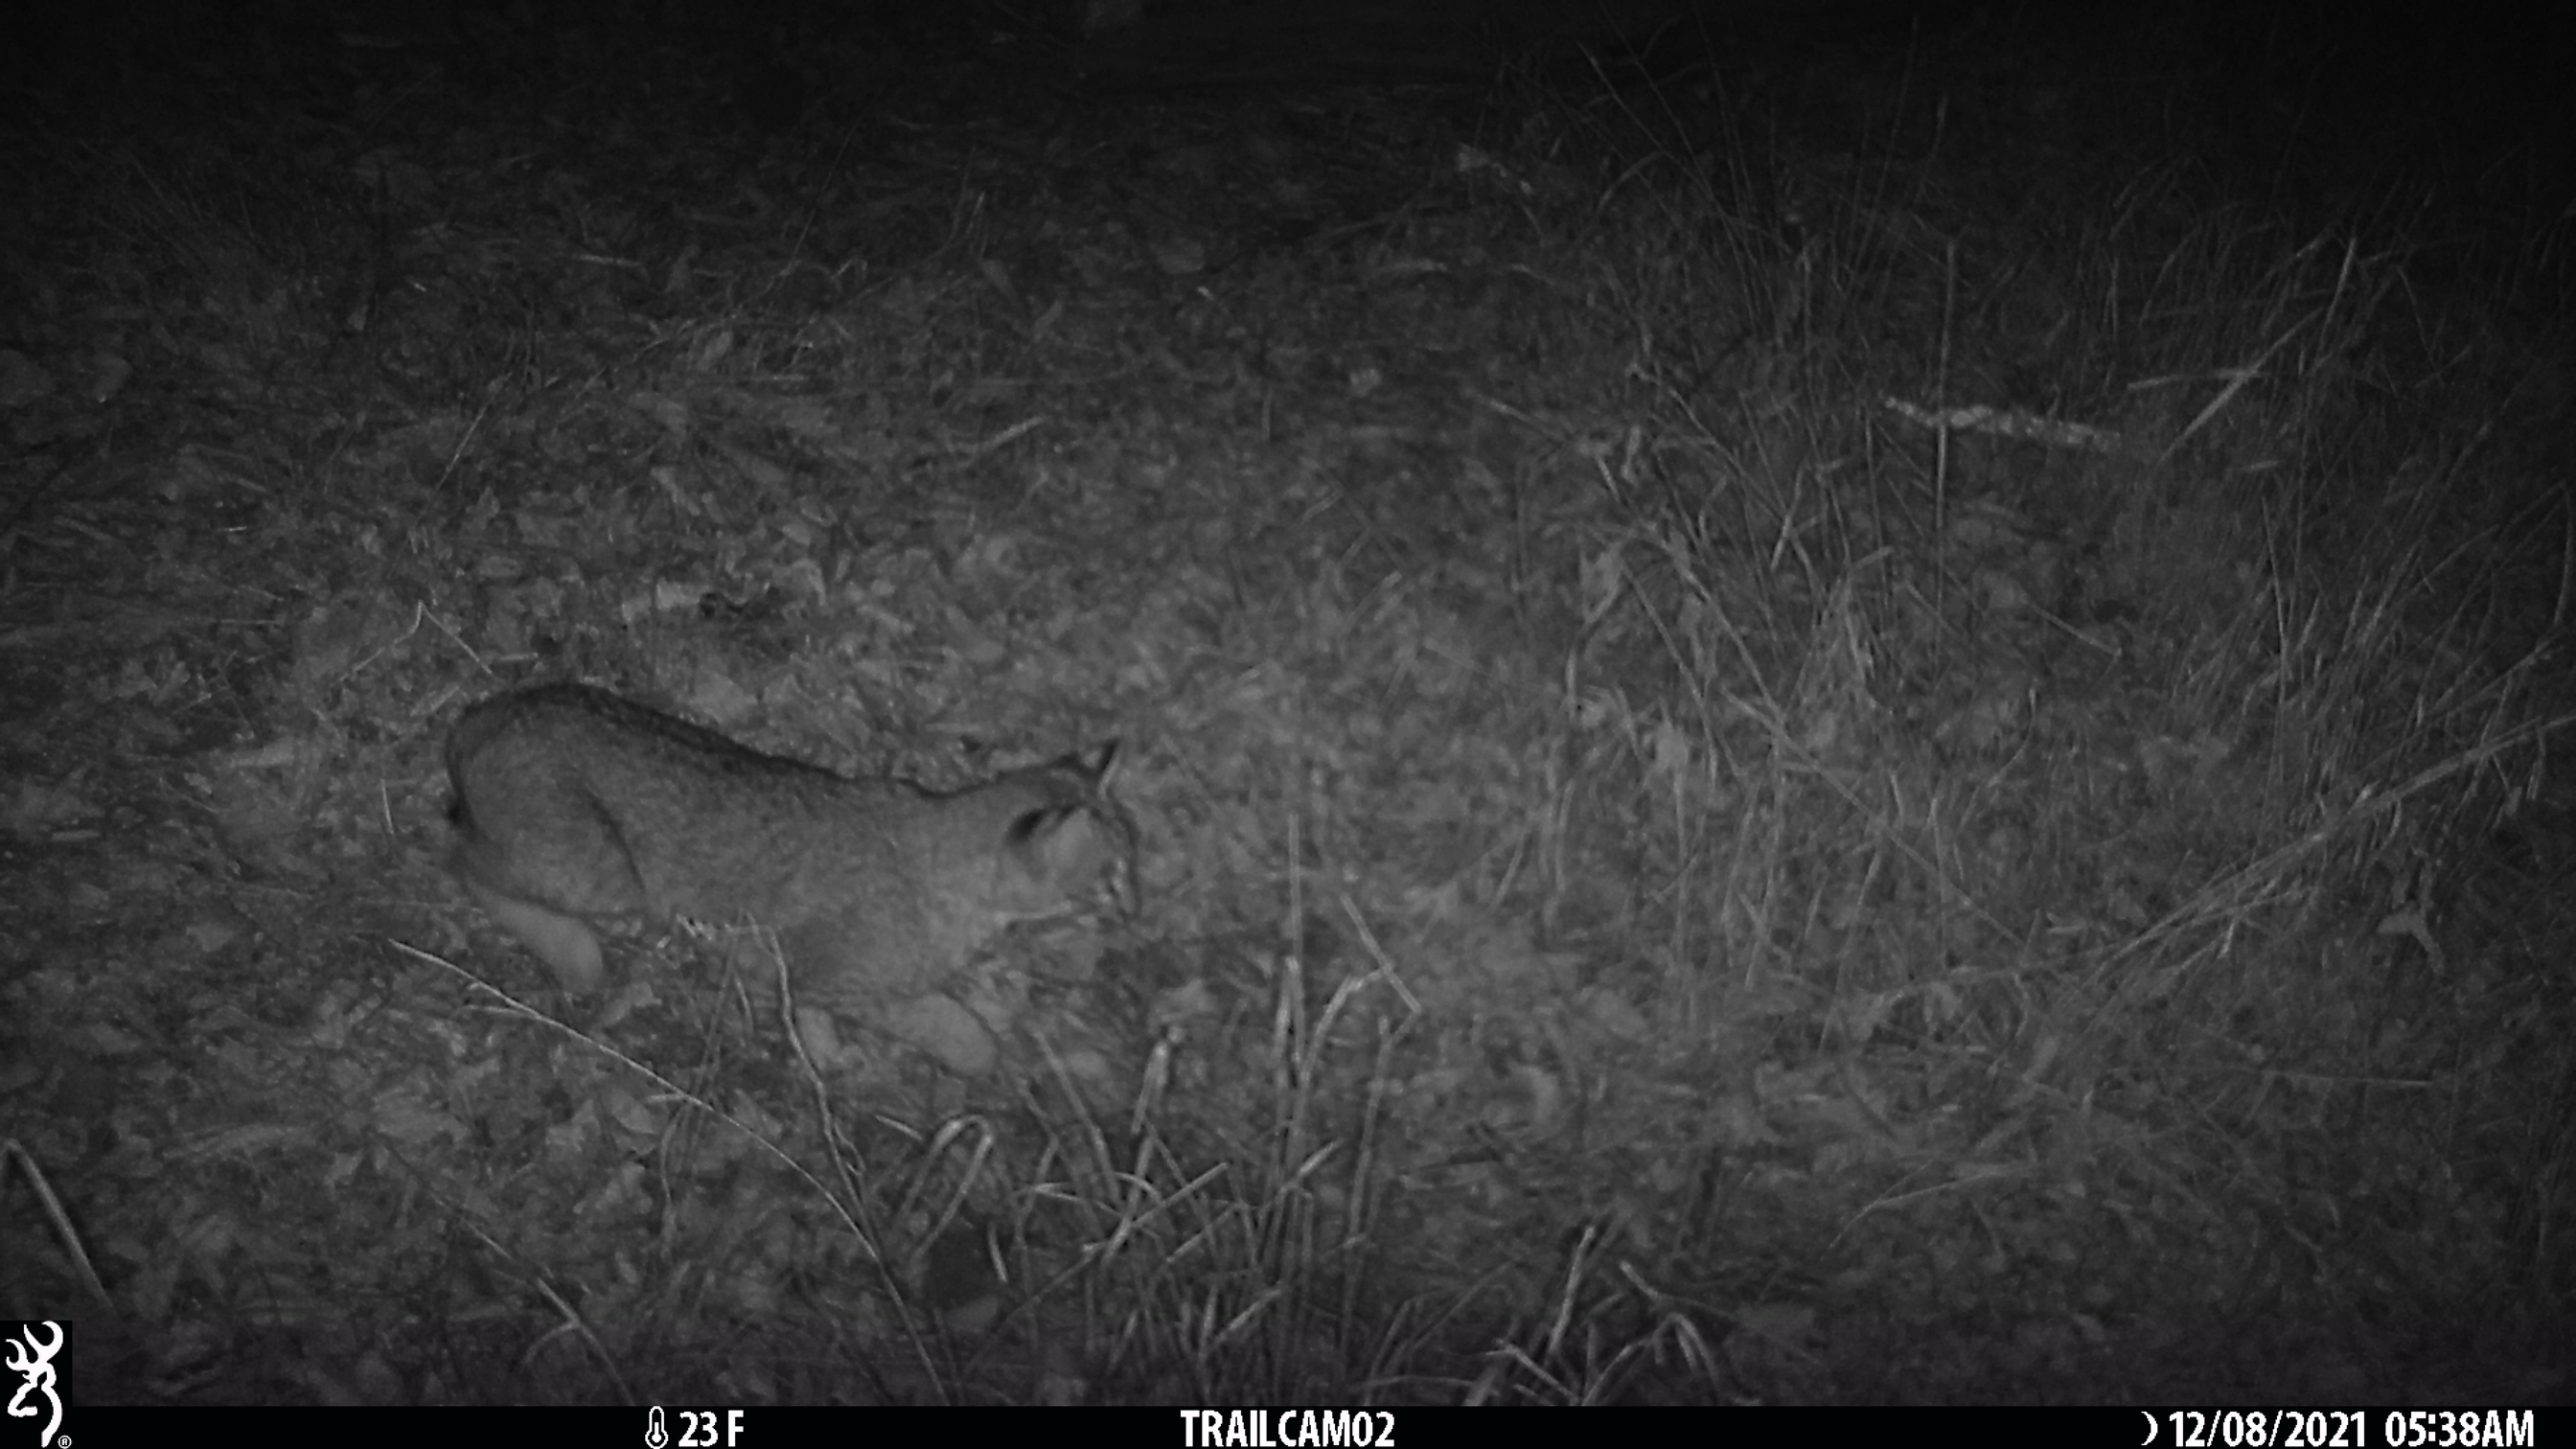Bobcat: (439, 678, 1134, 1070)
